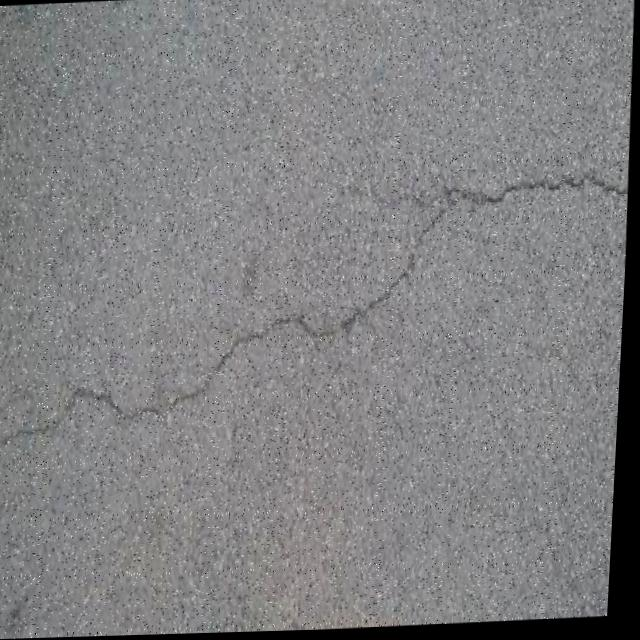Crack: (0, 160, 633, 467)
